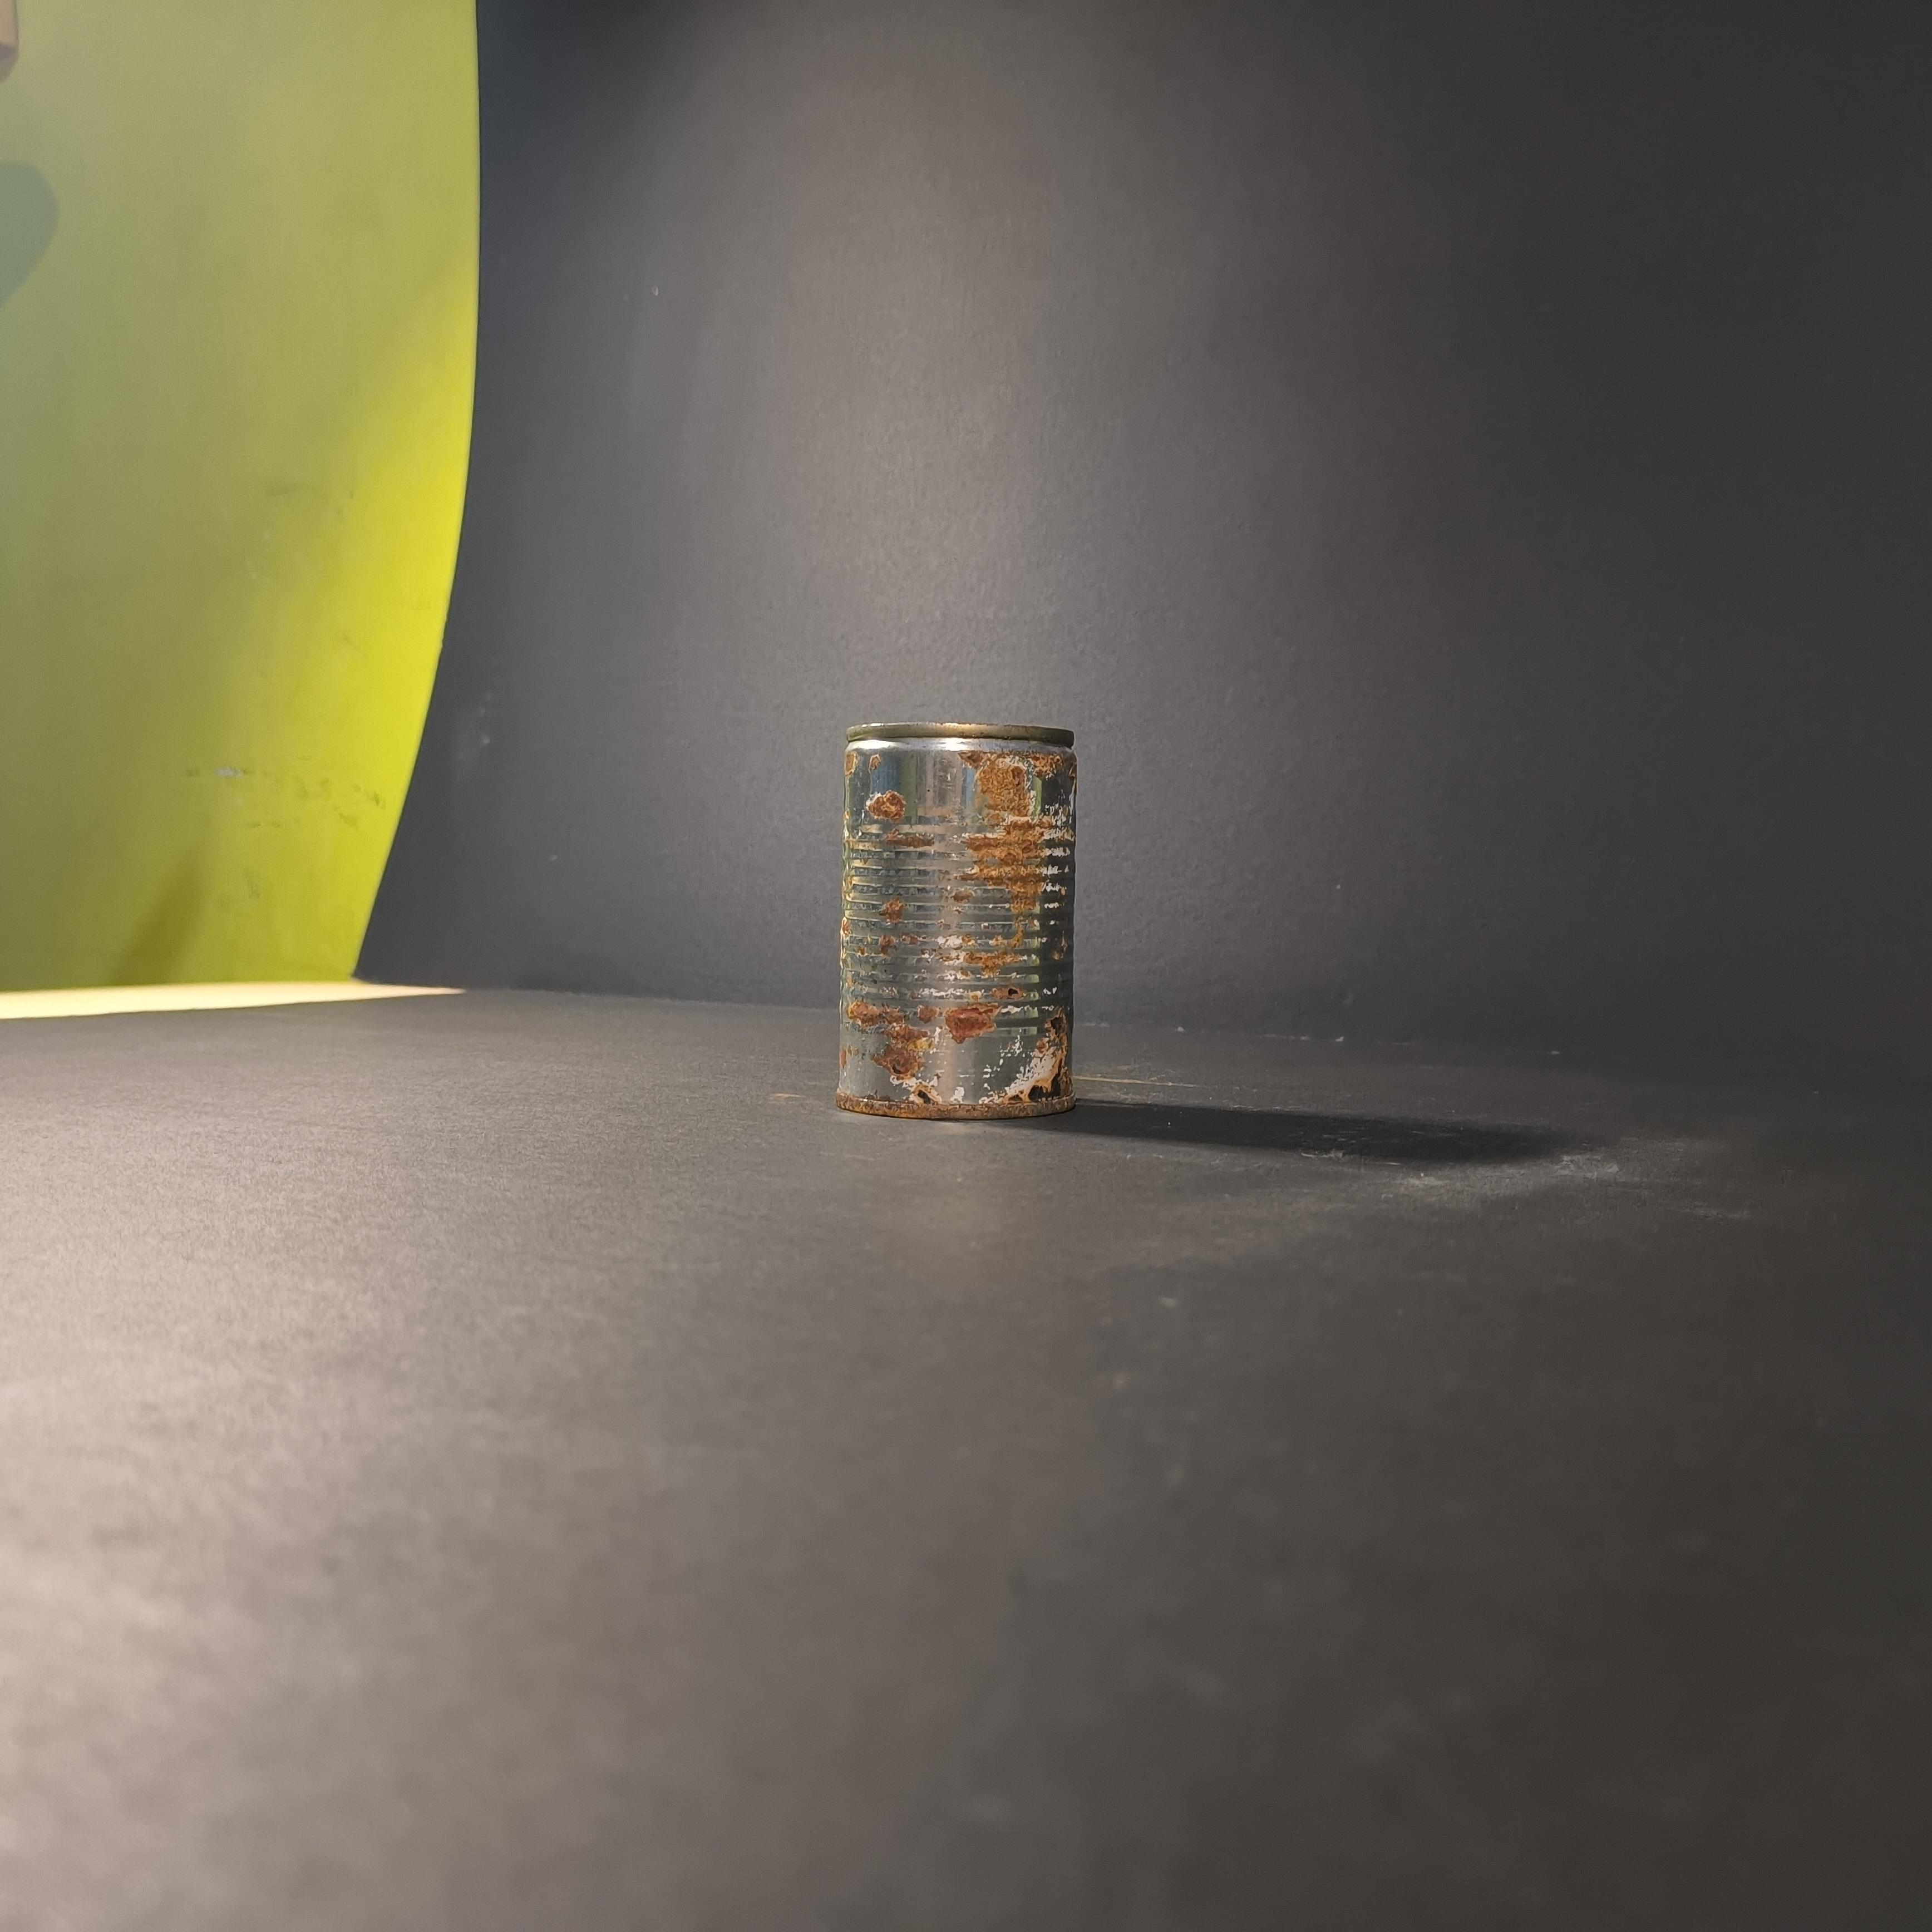Rusted: (830, 704, 1090, 1132)
